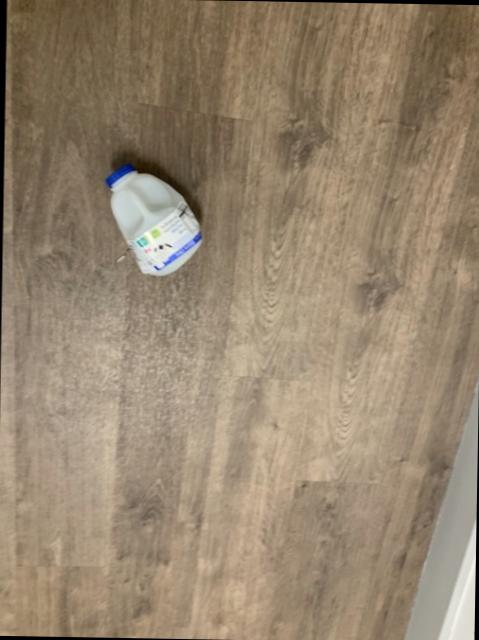plastic: (104, 165, 198, 276)
